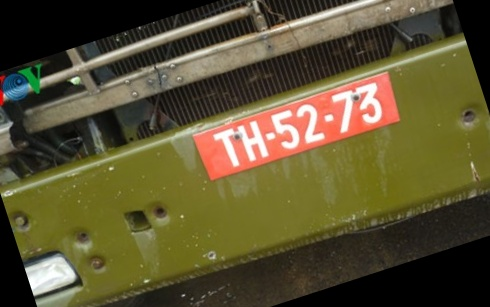plate: (195, 69, 397, 191)
